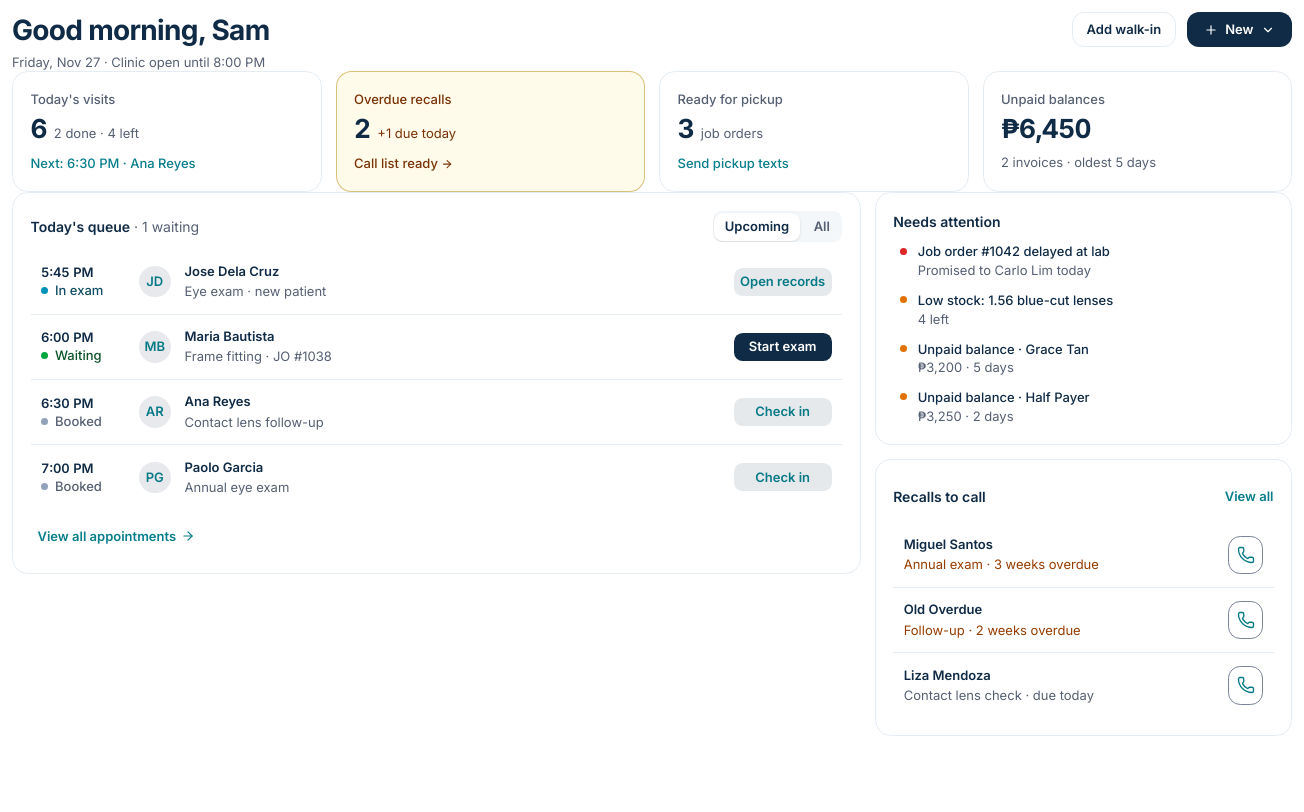
Scenario: StaffDashboard today's queue › Upcoming hides finished visits and All shows them
Expected: the text "Done One" is not shown
Click the button "All".
click(822, 227)  # box [803, 213, 840, 241]
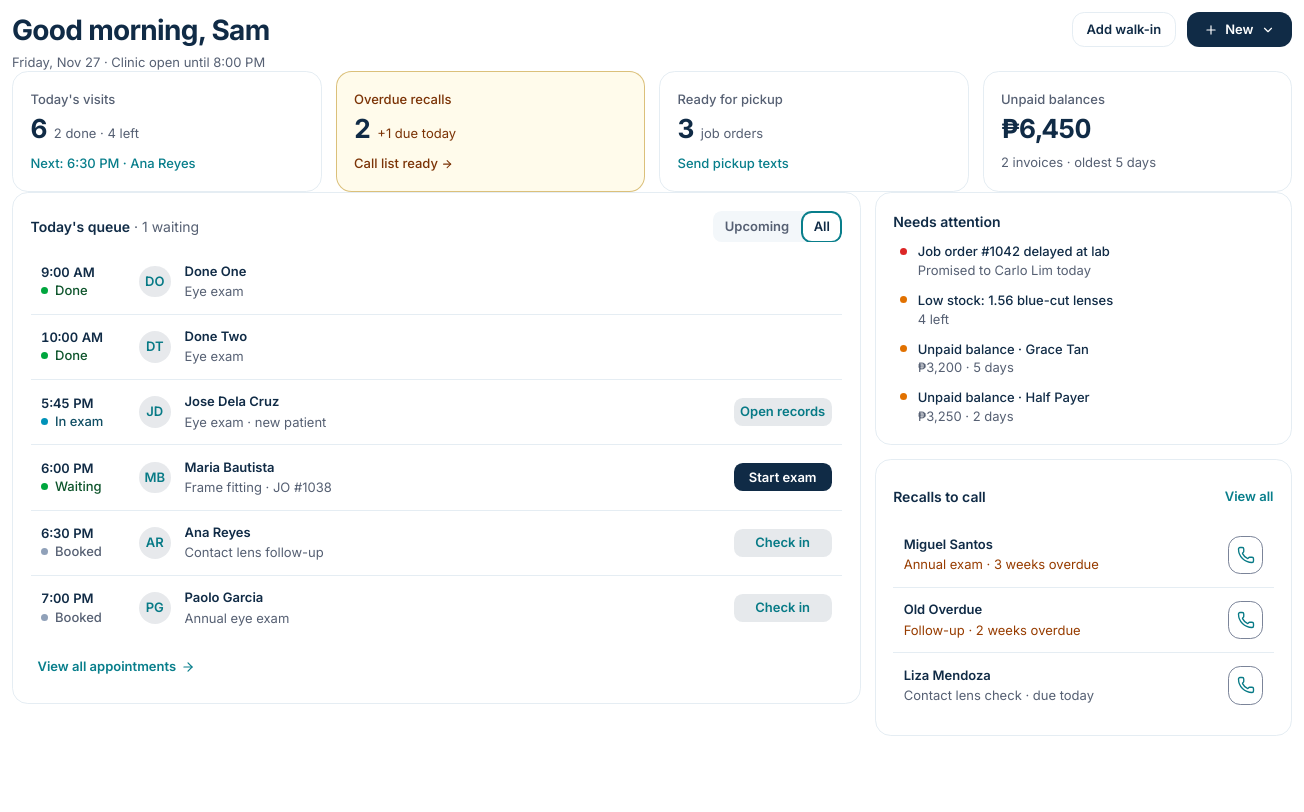
Now the text "Done One" is shown, box [184, 263, 246, 279]
